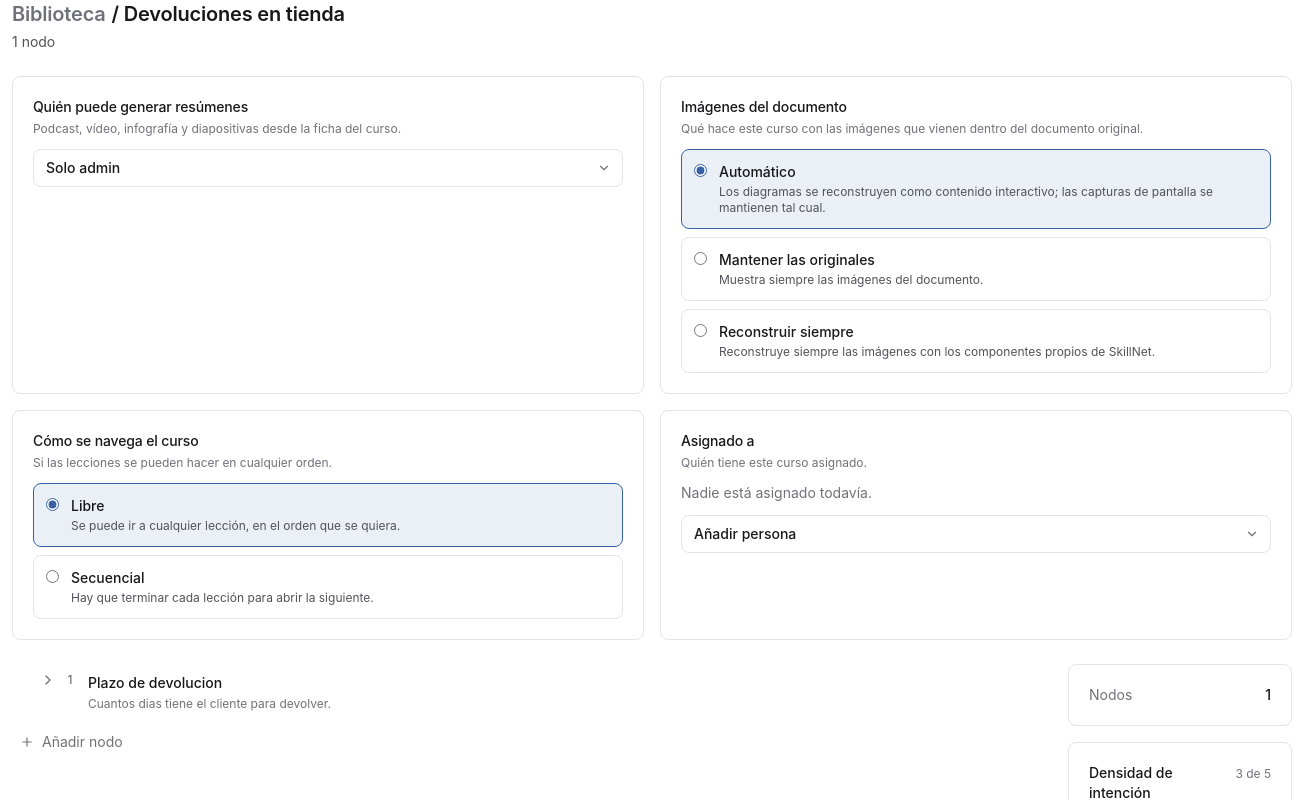
Test: CourseSchema › keeps pedagogical preparation inside each node instead of a separate panel
expect the field showing "Plazo de devolucion" is shown: met, box [88,673,1028,693]
expect the text "Preparación pedagógica" is not shown: met
Click the button named "Abrir Plazo de devolucion".
click(48, 680)  # box [40,672,56,688]
(page scrolled)
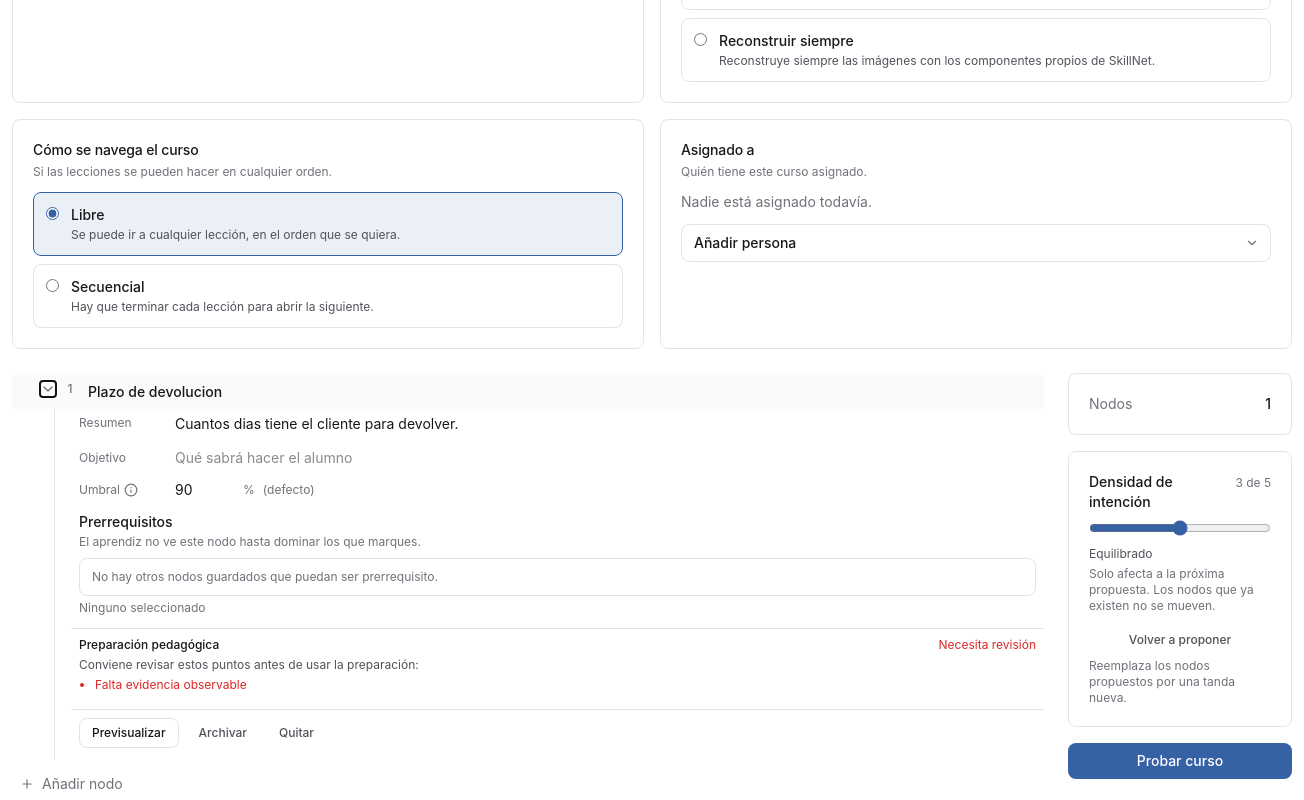
expect the text "Preparación pedagógica" is shown: met, box [79,637,219,653]
expect the text "Necesita revisión" is shown: met, box [938,637,1036,653]
